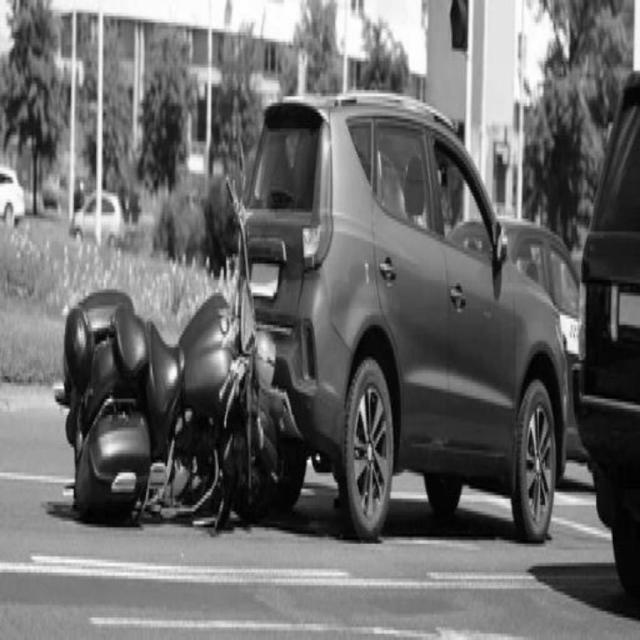accident: (55, 93, 569, 547)
